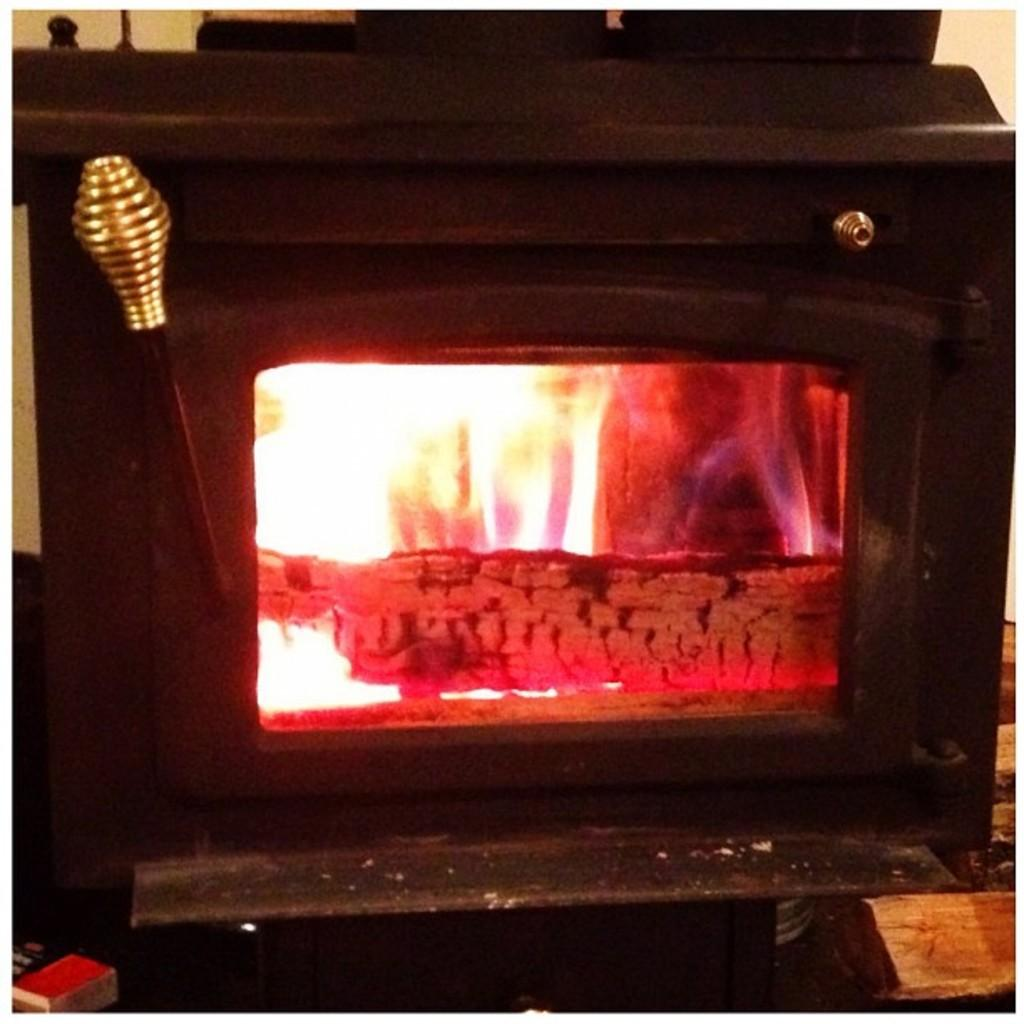Fire: (257, 370, 838, 706)
